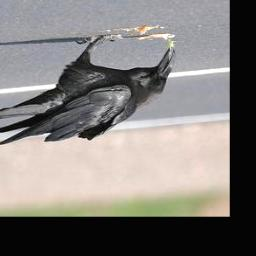Crow: (0, 36, 176, 146)
